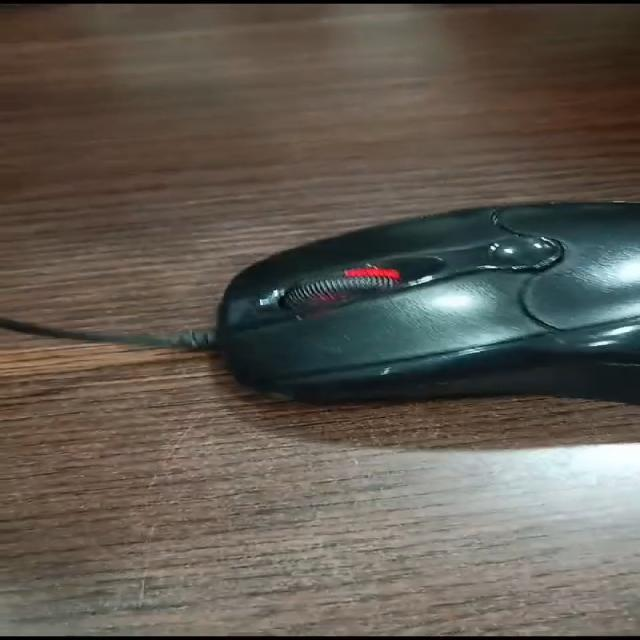mouse: (48, 172, 640, 445)
